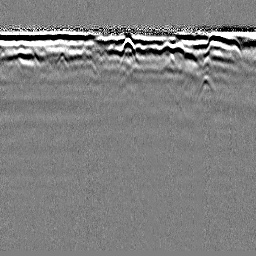cavity: (120, 34, 137, 56)
